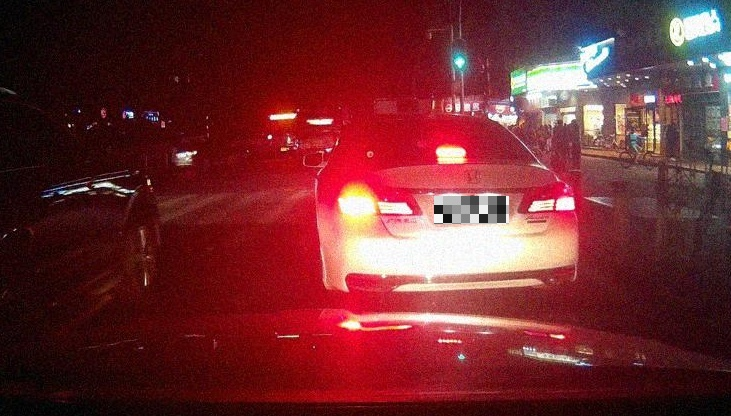L_light: (338, 194, 424, 216)
R_light: (517, 190, 576, 213)
T_light: (434, 147, 467, 160)
night-left: (318, 112, 580, 310)
plate_1: (434, 196, 509, 224)
